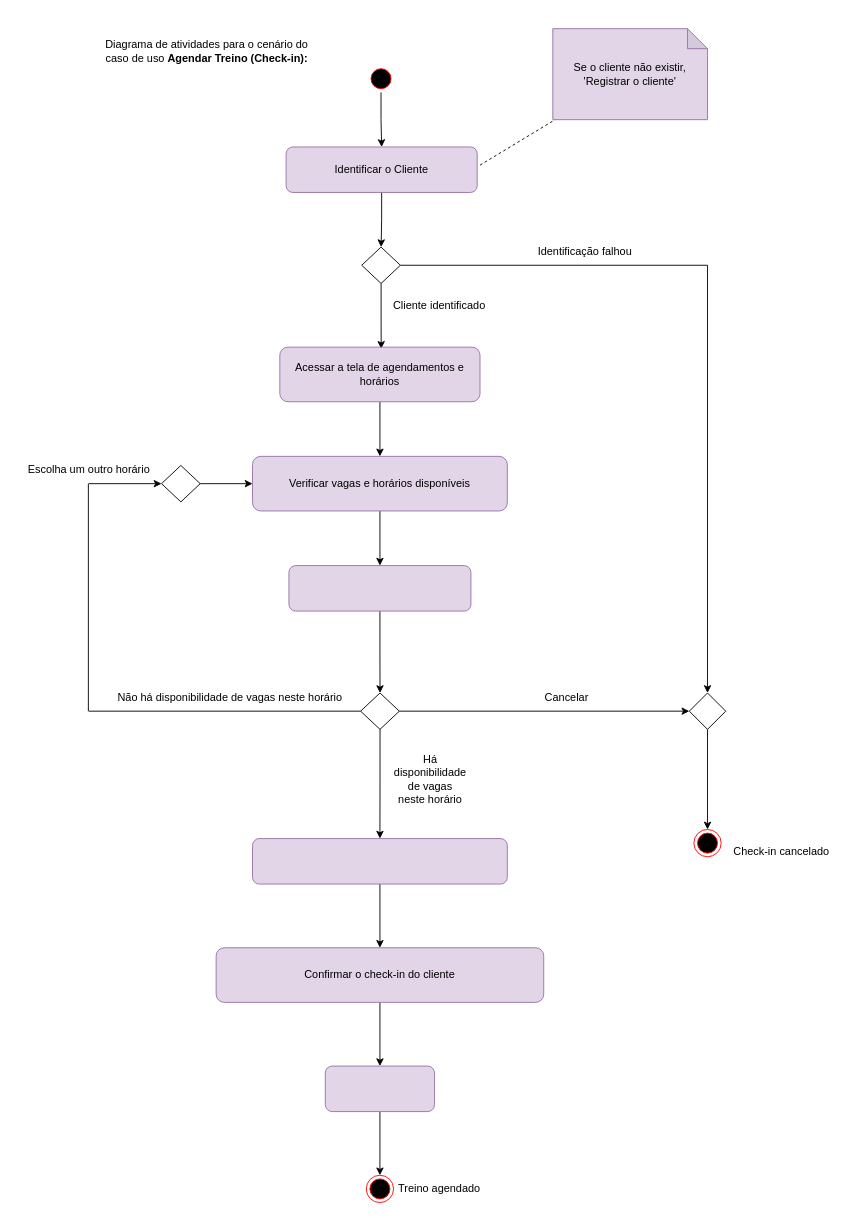
Image size: 856x1218. Some labels were removed from this diagram. The centre of each missing label's shape, as x and y in pixels:
Check-in efetuado: point 379,1088
Deseja fazer o check-in: point 379,861
Escolher horário: point 379,588
